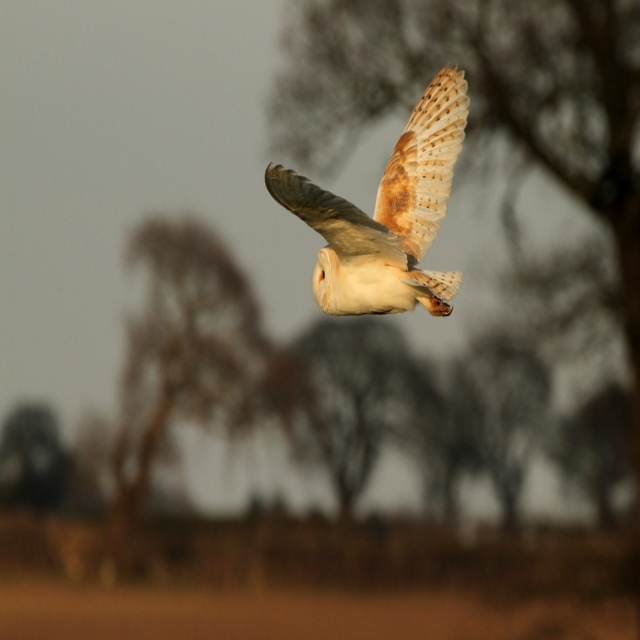Owl: (263, 60, 472, 322)
